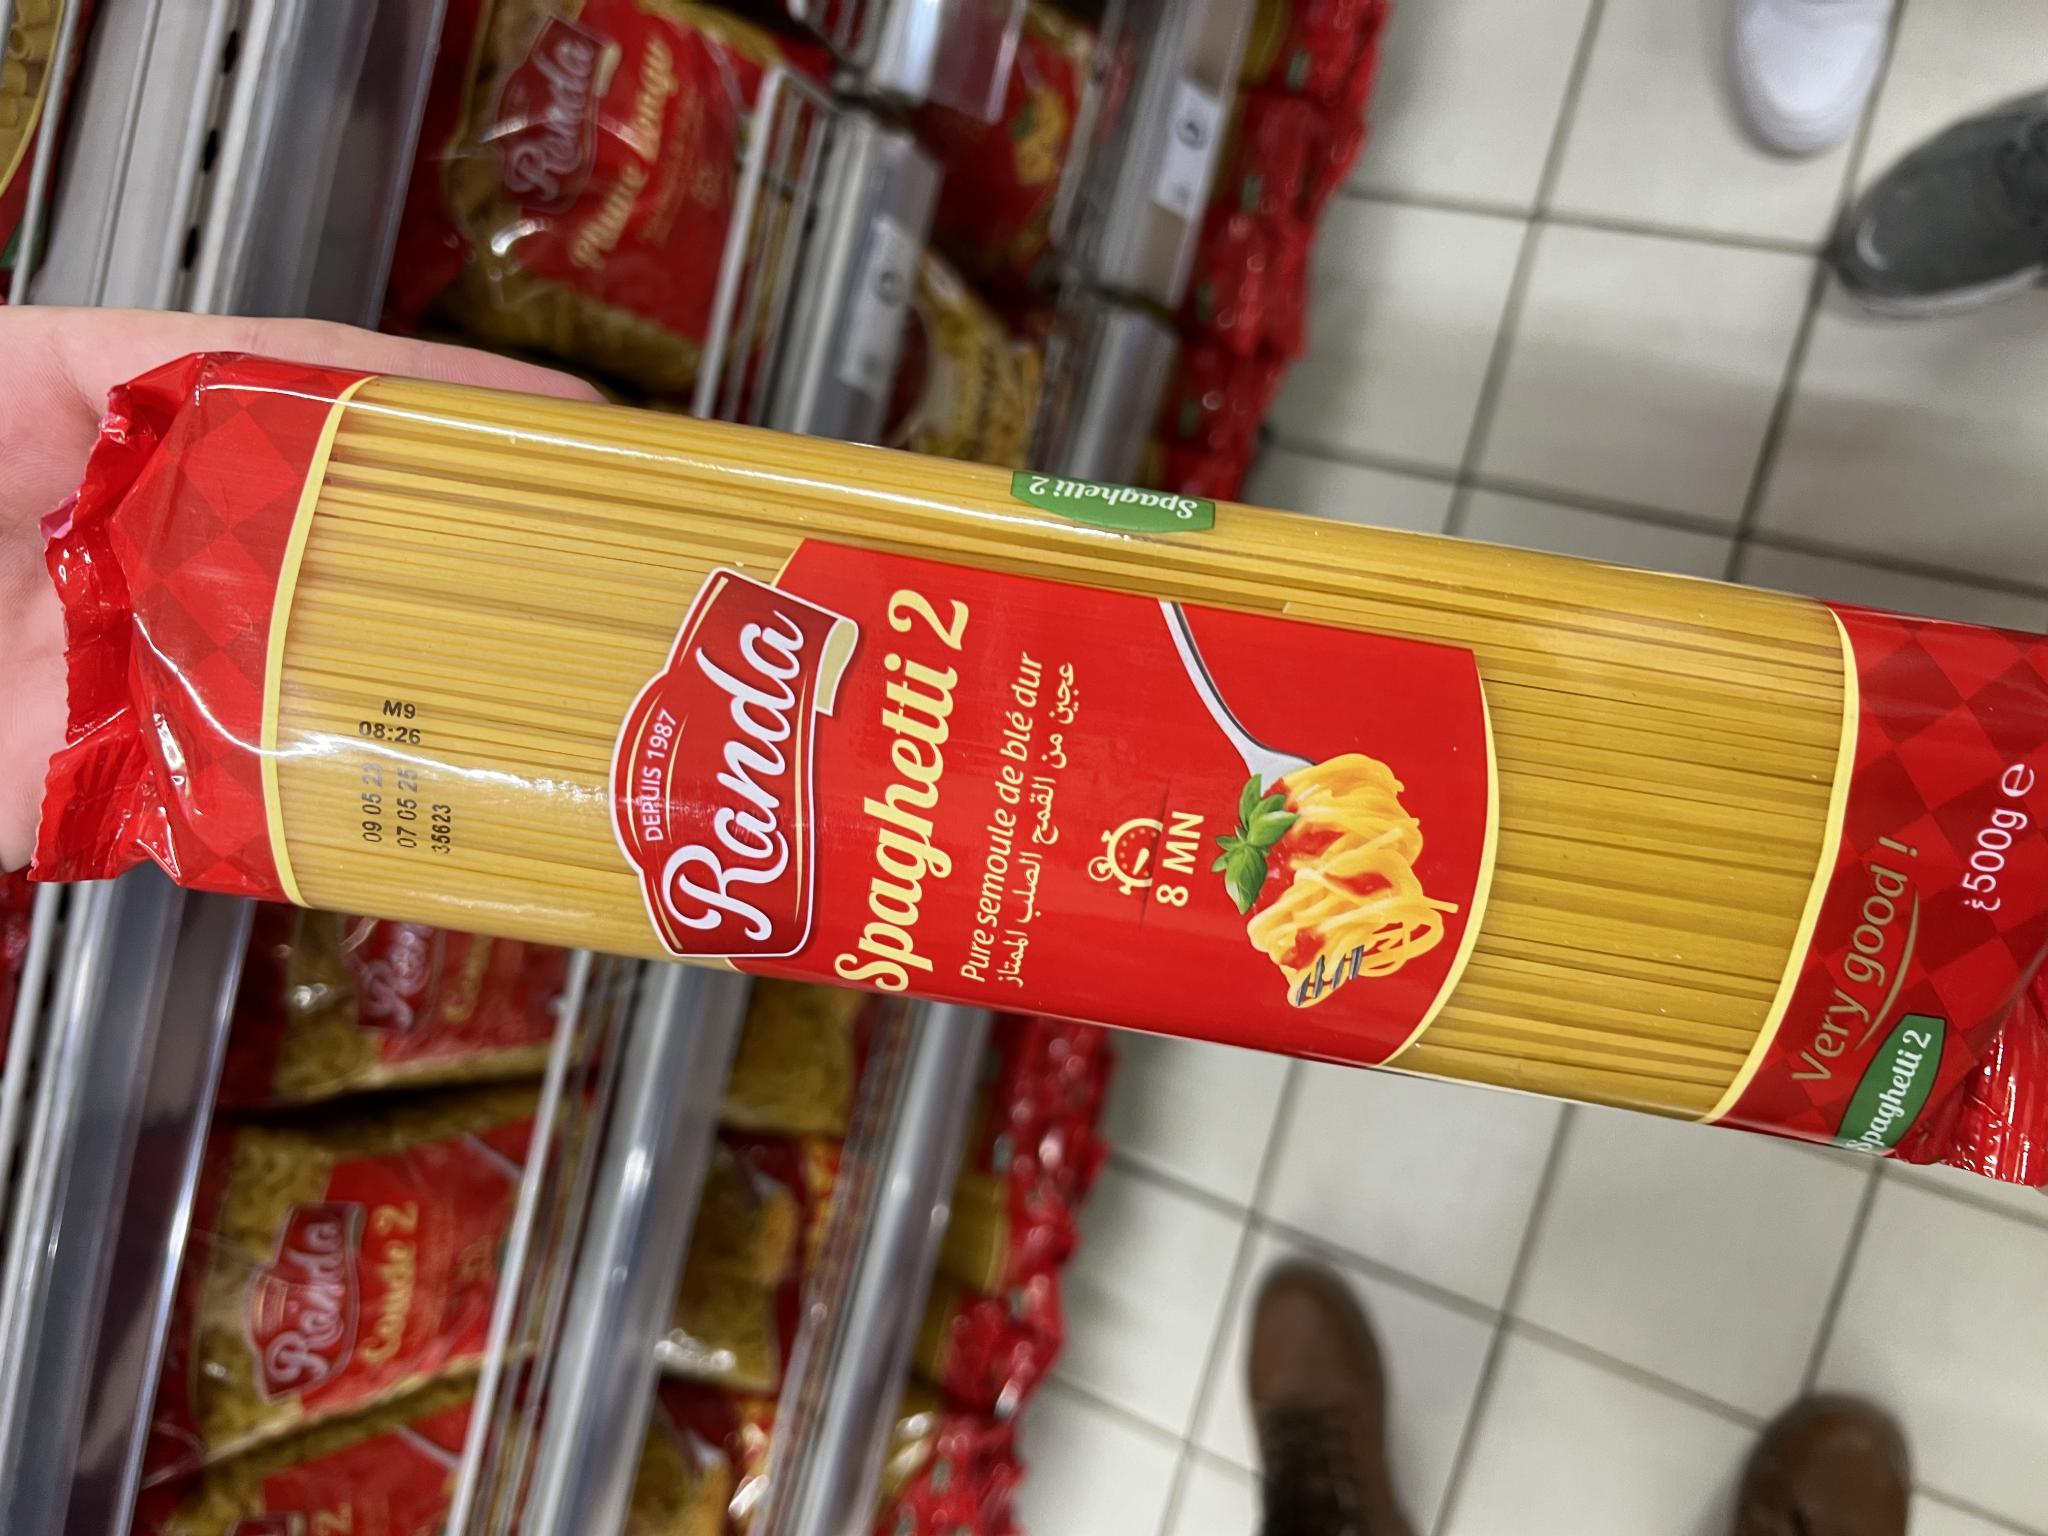Spaghetti: (32, 313, 2048, 1200)
